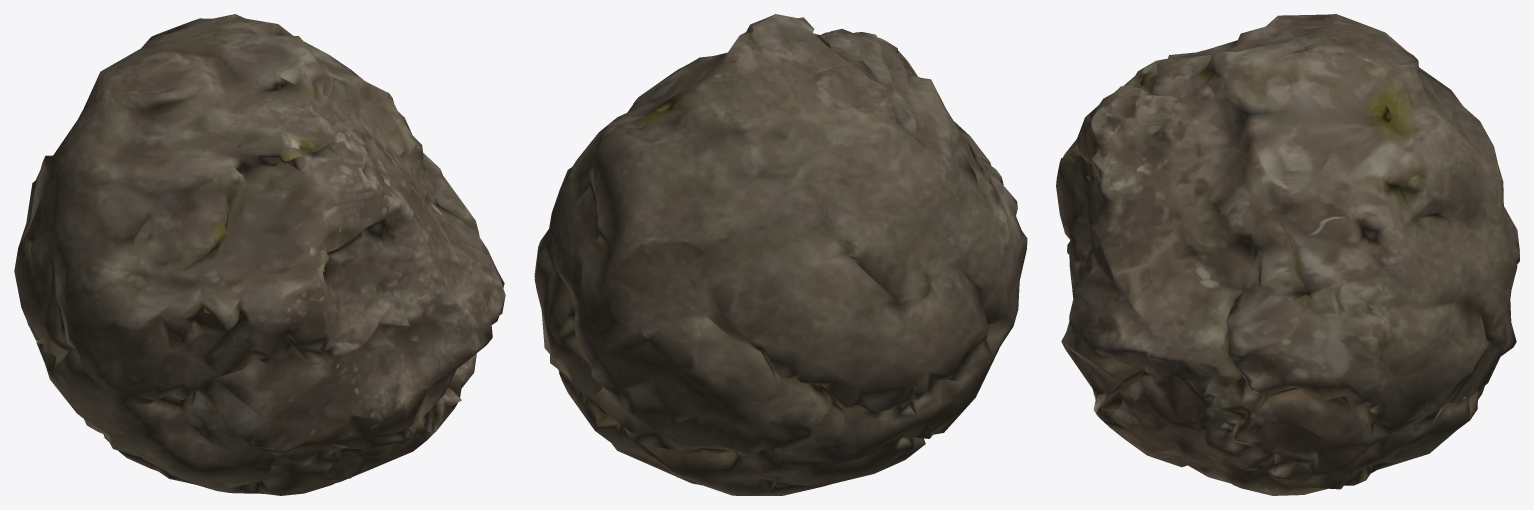
The model's file is rock_D-CCRVUvKY.glb.
3 renders of one model, left to right at view 1: azimuth 30°, elevation 25°; view 2: azimuth 150°, elevation 25°; view 3: azimuth 270°, elevation 25°, orthographic. The views are drawn at different scales.
Visible parts, largest first — view 1: rock_D; view 2: rock_D; view 3: rock_D.
Part boxes in pixels (x1,y1,x2,y2): rock_D: (14, 14, 505, 495); rock_D: (534, 14, 1027, 495); rock_D: (1056, 14, 1519, 495).
Bounding box in the file's own units: 1.2 × 1.13 × 1.18.
1 material, 1 textured.
